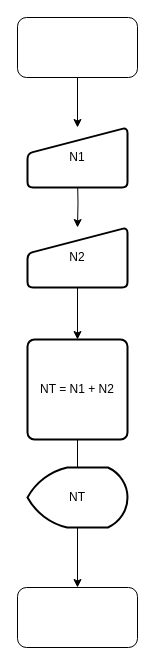
Some shapes in this 155 by 665 pixel diagram are drawn without their labels. The shapes that lost their labels are listed below. From the top down, each one's centre as x and y in pixels, then its label:
At [77,47]: "START".
At [77,617]: "END".
